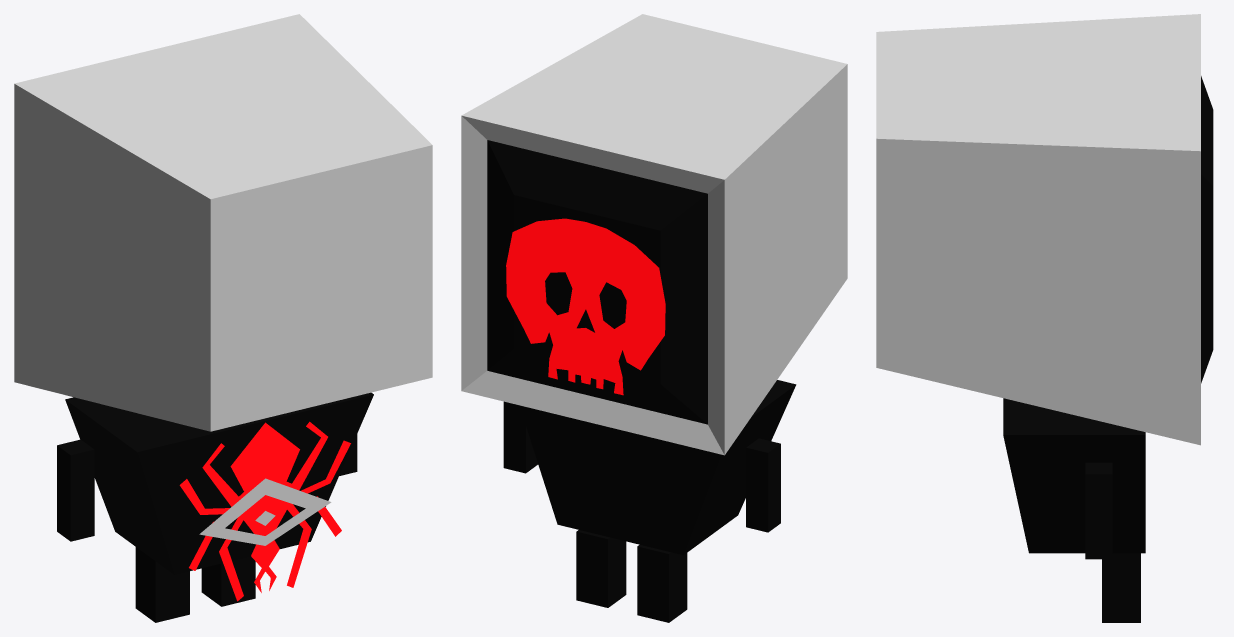
File: хакер.fbx
The picture shows the model from 3 angles, left to right: view 1: azimuth 30°, elevation 25°; view 2: azimuth 150°, elevation 25°; view 3: azimuth 270°, elevation 25°; orthographic projection. The views are drawn at different scales.
Parts seen in each view (by area): view 1: Cube, Cube.001, Plane.003, Cube.002, Cube.003, Plane, Plane.002; view 2: Cube, Cube.001, Plane.004, Cube.002, Cube.003; view 3: Cube, Cube.001, Cube.003, Cube.002.
Boxes of the visible parts, bbox=[...] form: Cube: bbox=[14, 14, 432, 431]; Cube.001: bbox=[65, 392, 373, 574]; Plane.003: bbox=[179, 421, 350, 535]; Cube.002: bbox=[135, 547, 255, 622]; Cube.003: bbox=[57, 434, 357, 541]; Plane: bbox=[180, 468, 341, 601]; Plane.002: bbox=[199, 478, 331, 545]; Cube: bbox=[461, 14, 847, 455]; Cube.001: bbox=[519, 380, 796, 555]; Plane.004: bbox=[506, 218, 665, 395]; Cube.002: bbox=[576, 530, 687, 622]; Cube.003: bbox=[503, 401, 780, 532]; Cube: bbox=[876, 14, 1213, 445]; Cube.001: bbox=[1003, 398, 1145, 553]; Cube.003: bbox=[1085, 462, 1112, 559]; Cube.002: bbox=[1102, 553, 1140, 622].
Size of the model in its own units: 202 by 351 by 211.
